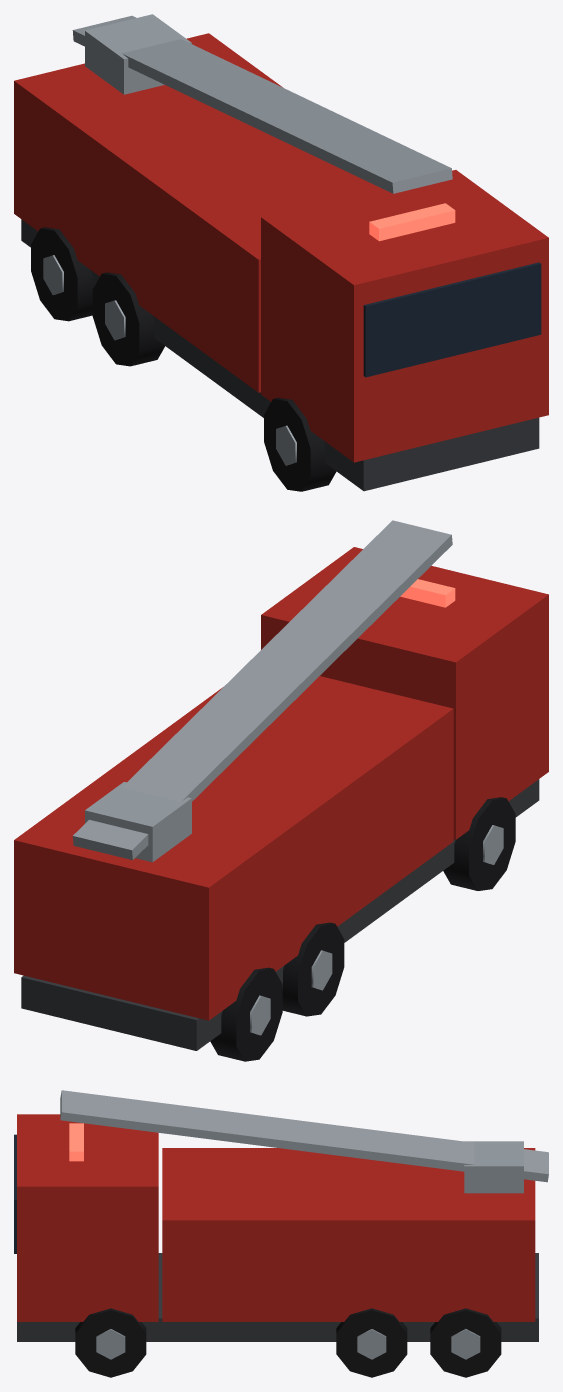
File: veh_ground_fire_truck_a07.glb
3 renders of one model, top to bottom at view 1: azimuth 30°, elevation 25°; view 2: azimuth 150°, elevation 25°; view 3: azimuth 270°, elevation 25°, orthographic. The views are drawn at different scales.
Visible parts, largest first — view 1: body, ladder, wheel_2, wheel_4, wheel_0; view 2: body, ladder, wheel_0, wheel_4, wheel_2; view 3: body, ladder, wheel_1, wheel_3, wheel_5.
Part boxes in pixels (x1,y1,x2,y2): body: (14, 33, 548, 491); ladder: (72, 14, 452, 193); wheel_2: (92, 272, 164, 366); wheel_4: (264, 398, 336, 491); wheel_0: (31, 227, 92, 321); body: (14, 547, 548, 1050); ladder: (72, 520, 452, 862); wheel_0: (210, 967, 282, 1061); wheel_4: (443, 797, 515, 890); wheel_2: (282, 922, 344, 1016); body: (14, 1114, 538, 1341); ladder: (60, 1090, 548, 1193); wheel_1: (430, 1308, 501, 1377); wheel_3: (336, 1308, 407, 1377); wheel_5: (75, 1308, 146, 1377).
Size of what is drawn, in the model's own units: 2.46 by 3.53 by 7.17.
